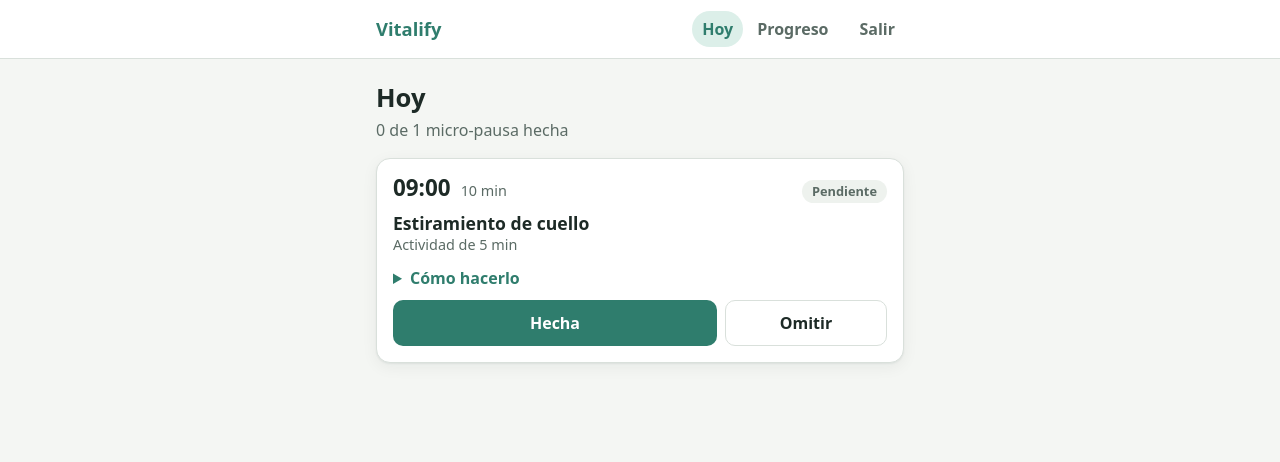
Scenario: Hoy › muestra las pausas de hoy con su hora, actividad y pasos
This screenshot has width=1280, height=462.
Expected: the heading "Estiramiento de cuello" is shown, left=393, top=211, right=589, bottom=235
Expected: the text "10 min" is shown, left=461, top=180, right=507, bottom=201
Click the heading "Cómo hacerlo" at [465, 278], box left=410, top=267, right=520, bottom=289
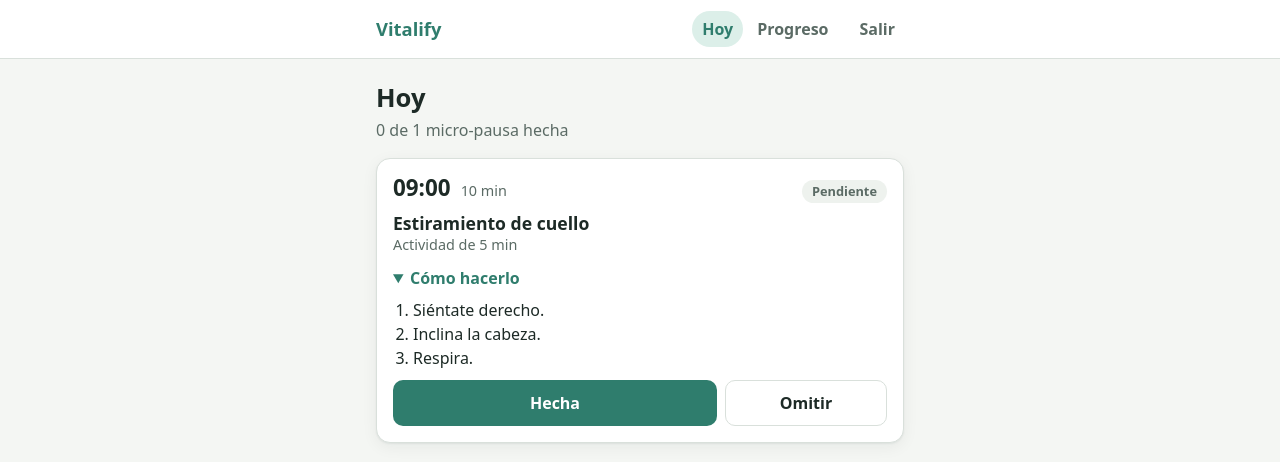
Now the list items read "Siéntate derecho.", "Inclina la cabeza.", "Respira.", in this order, box left=413, top=299, right=544, bottom=321; left=413, top=323, right=541, bottom=345; left=413, top=347, right=473, bottom=369
